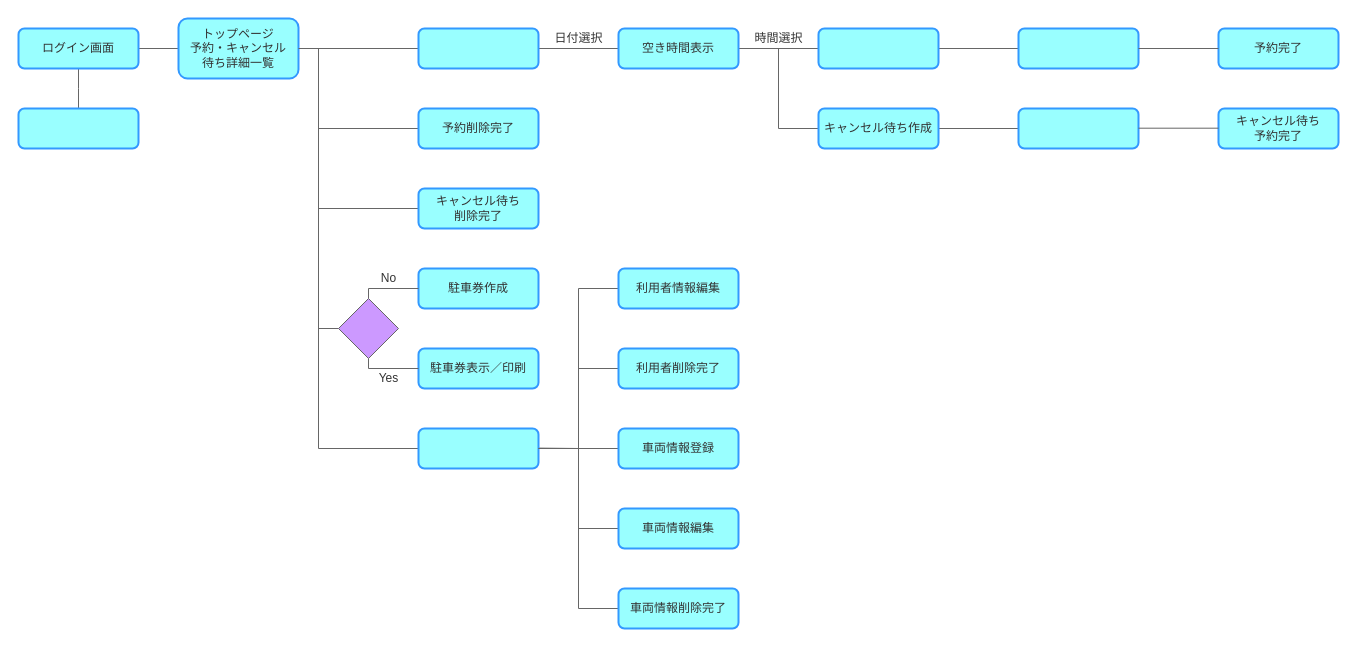
The diagram is 1356 pixels wide and 646 high, and some of its shapes have lost their labels. Here are the shapes that lost their labels. From the top down, the box of each, then its label:
(417, 27, 539, 69): カレンダー表示
(817, 27, 939, 69): 新規予約作成
(1017, 27, 1139, 69): 予約確認
(17, 107, 139, 149): 新規登録
(1017, 107, 1139, 149): キャンセル待ち 確認
(338, 298, 398, 358): 駐車券を 作成済みか
(417, 427, 539, 469): 利用者情報一覧
